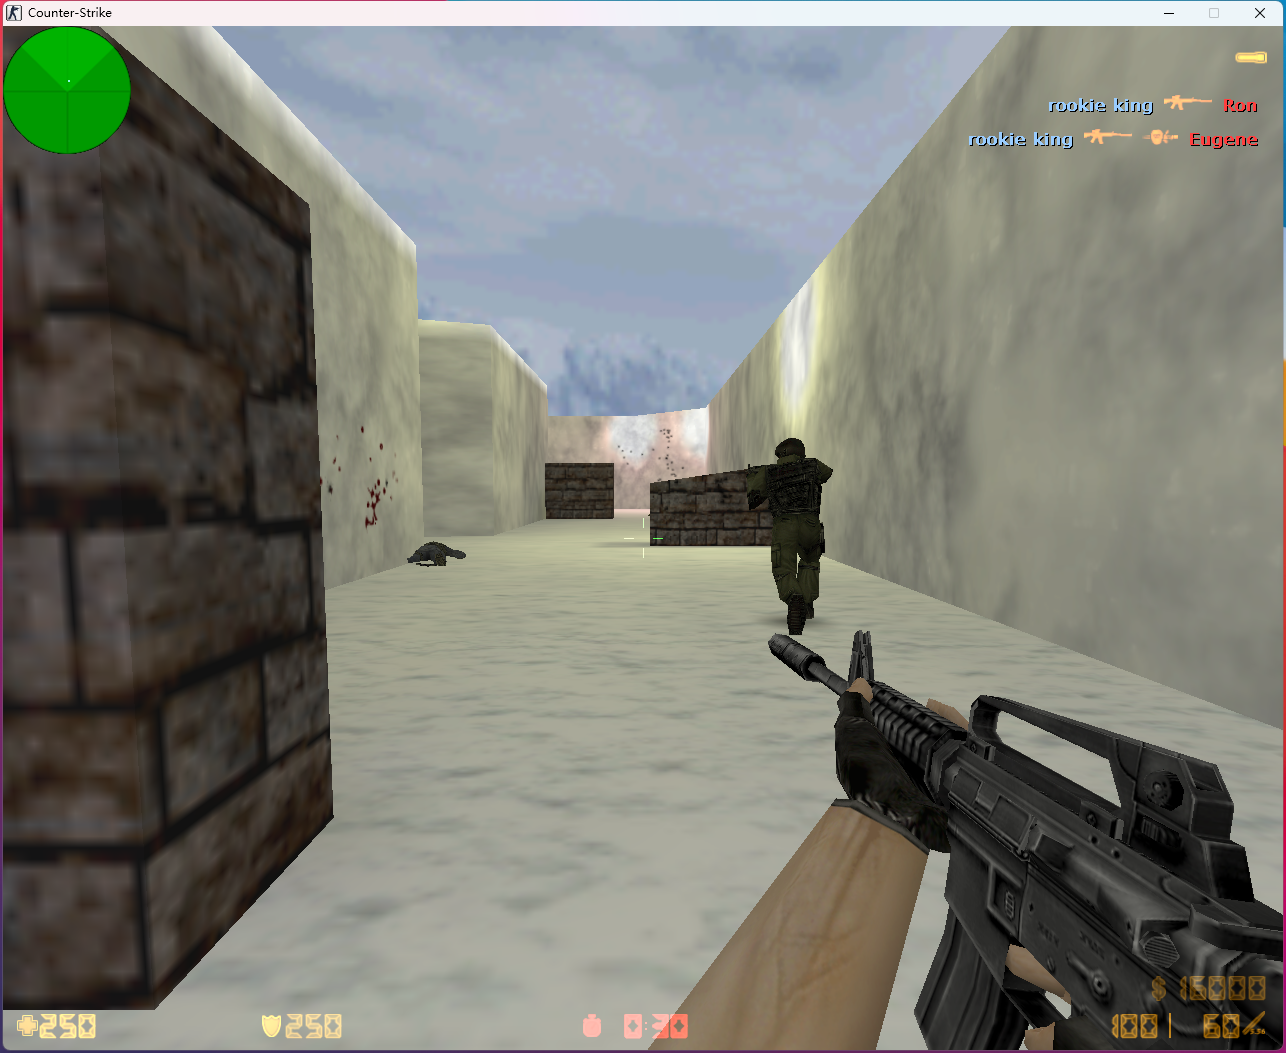C: (742, 436, 835, 636)
dead: (405, 538, 467, 570)
